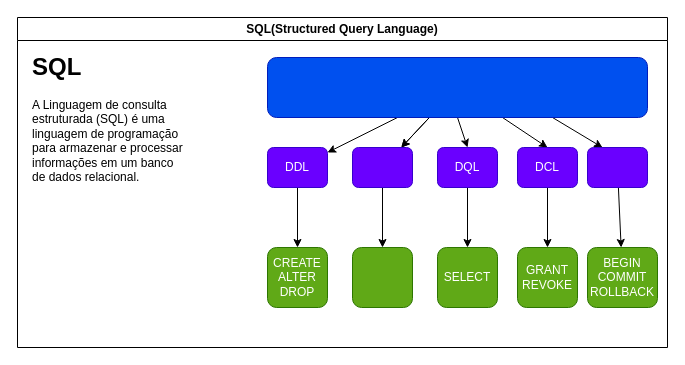
Some shapes in this 685 by 365 pixel diagram are drawn without their labels. Here are the shapes that lost their labels. From the top down, the centre of each, then its label:
At (457,87): "SQL".
At (382,167): "DML".
At (617,167): "DTL".
At (382,277): "INSERT UPDATE DELETE".
